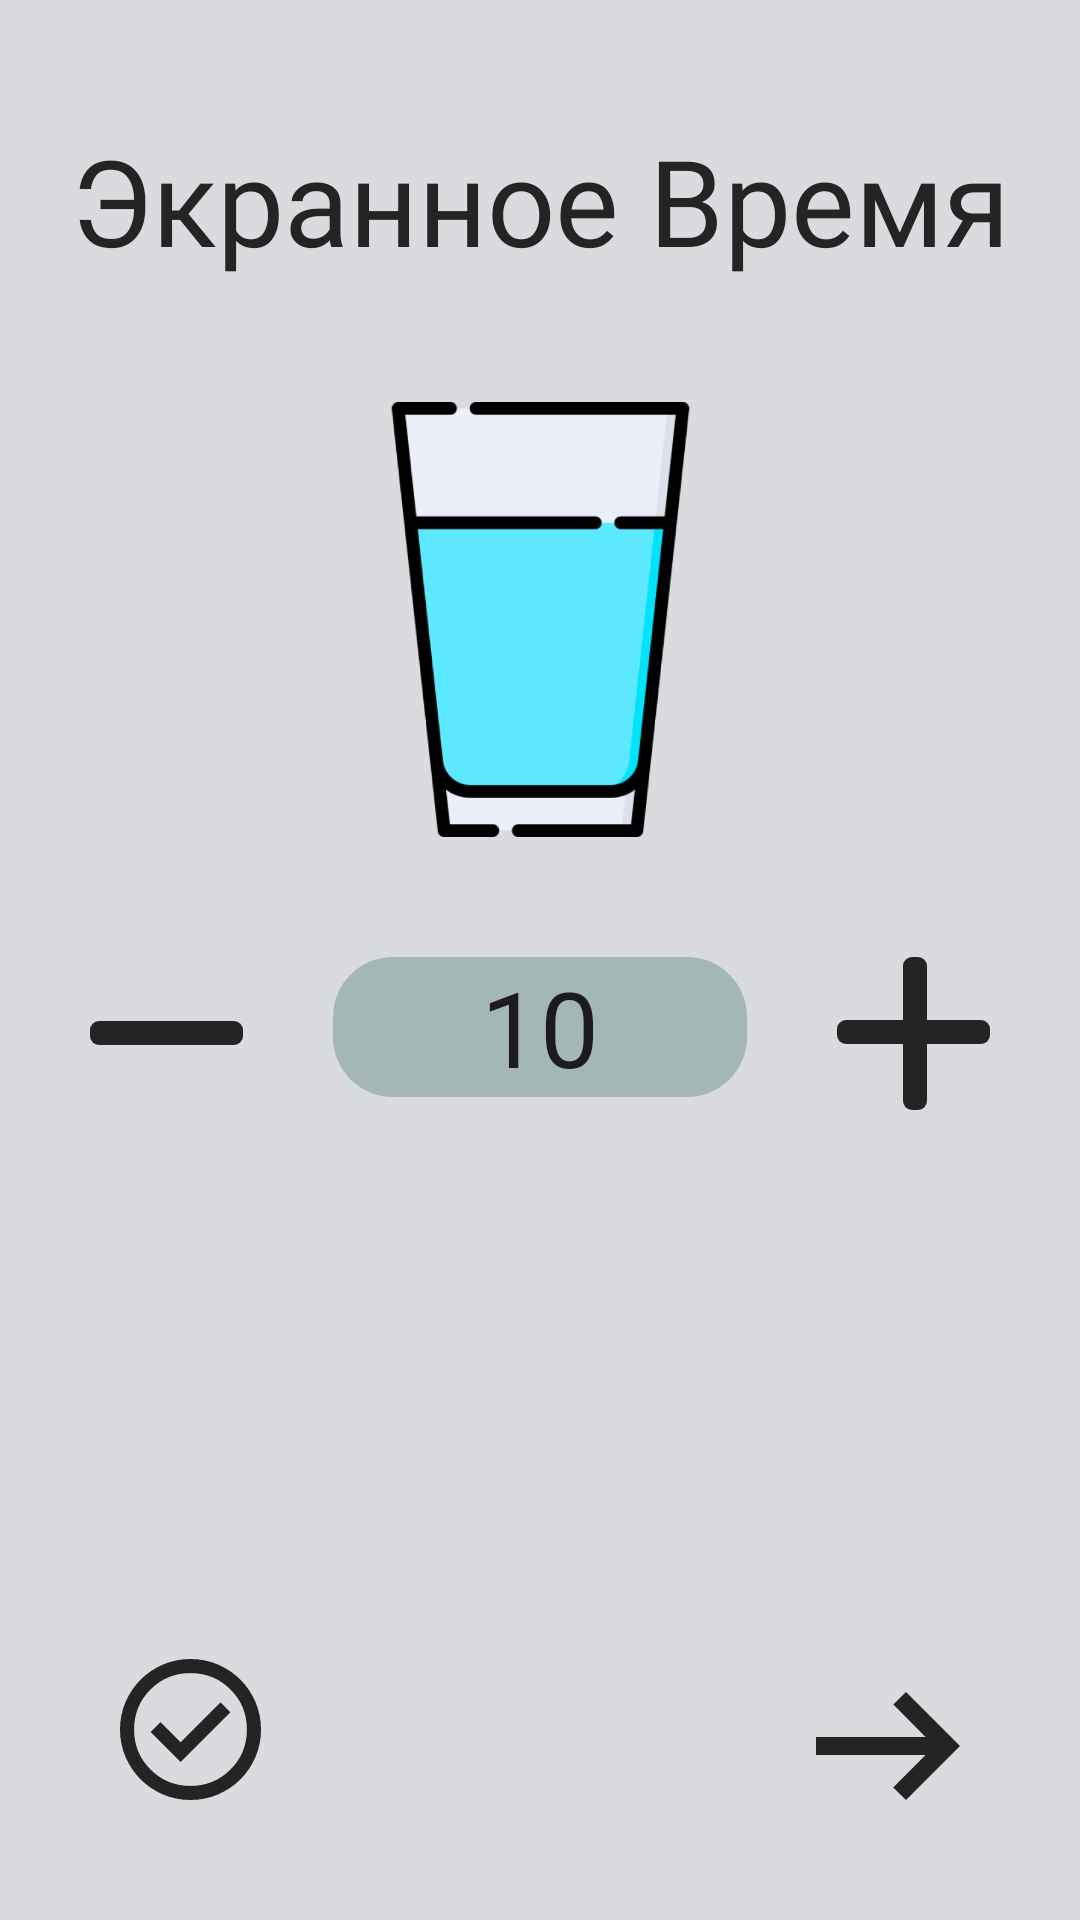

Screen size 1080×1920. Icon name, then its center in pixels as point (x, y):
system finish: point (190, 1729)
system forward: point (888, 1746)
system plus: point (913, 1033)
